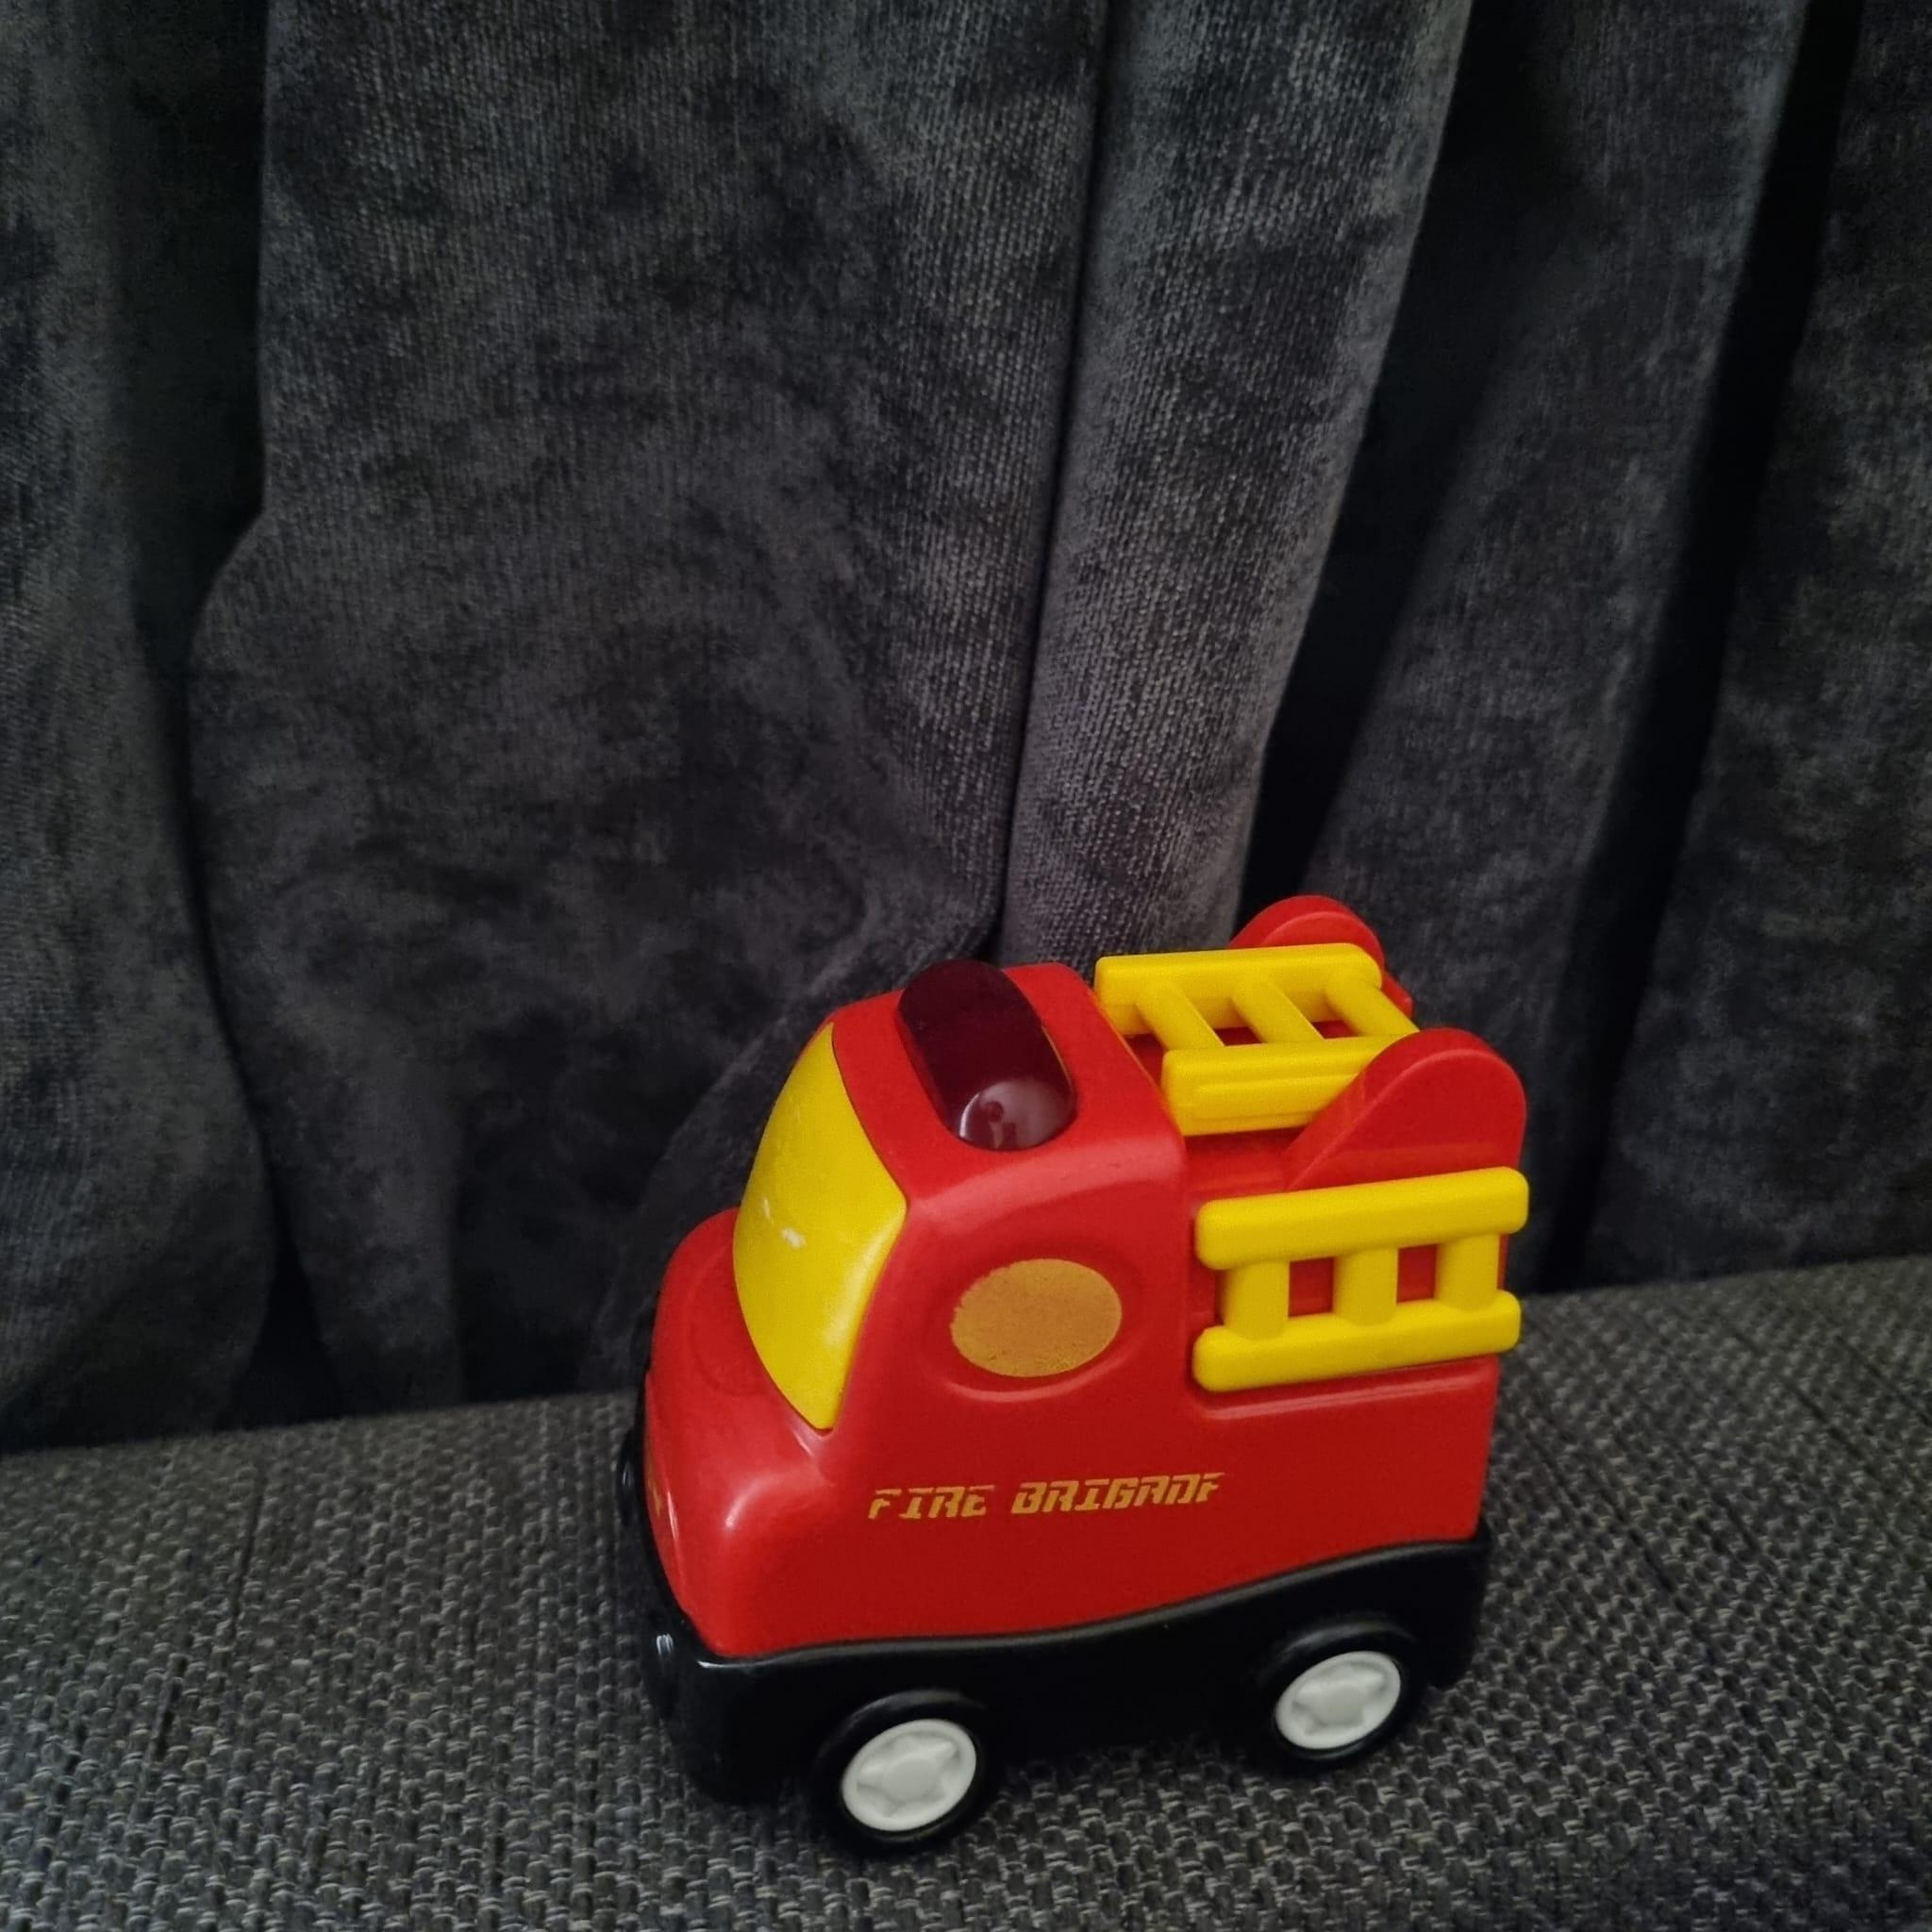firetruck_off: (619, 892, 1532, 1877)
